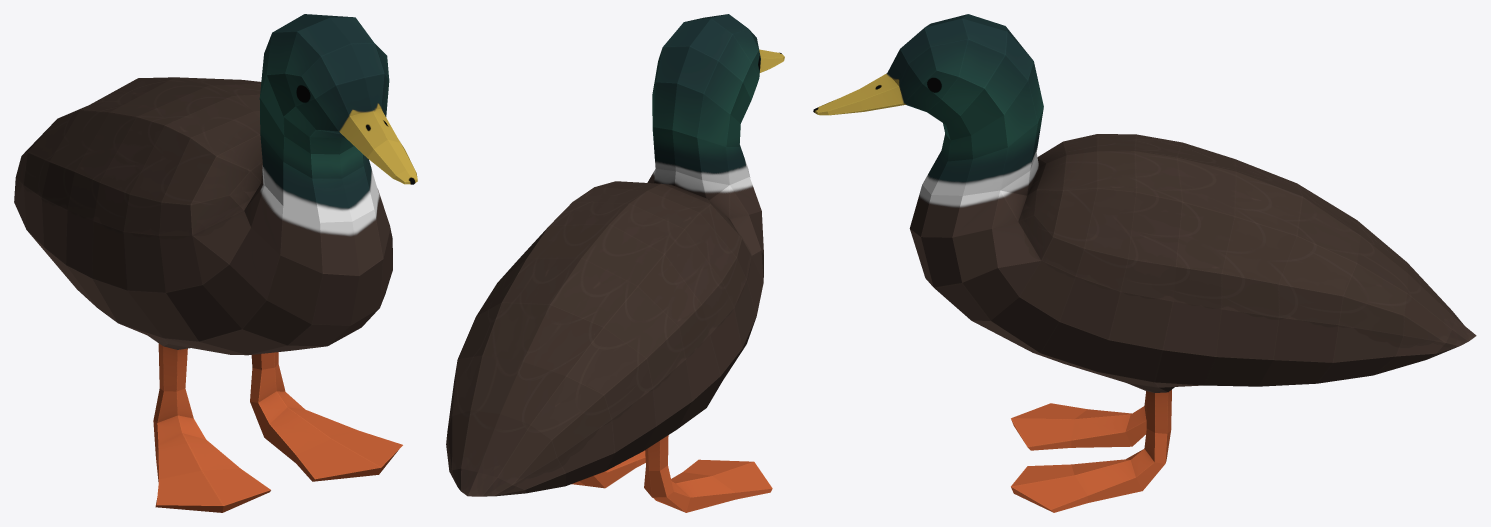
File: MallardDuck.obj
3 views of the same model, side by side, from view 1: azimuth 30°, elevation 25°; view 2: azimuth 150°, elevation 25°; view 3: azimuth 270°, elevation 25° (orthographic). The views are drawn at different scales.
Parts seen in each view (by area): view 1: MallardDuck_Mesh; view 2: MallardDuck_Mesh; view 3: MallardDuck_Mesh.
Boxes of the visible parts, bbox=[...] form: MallardDuck_Mesh: bbox=[14, 14, 417, 512]; MallardDuck_Mesh: bbox=[446, 14, 784, 512]; MallardDuck_Mesh: bbox=[813, 14, 1476, 512].
Size of the model in its own units: 0.9816 by 1.87 by 2.55.
Materials: 1 (1 with a texture image).
